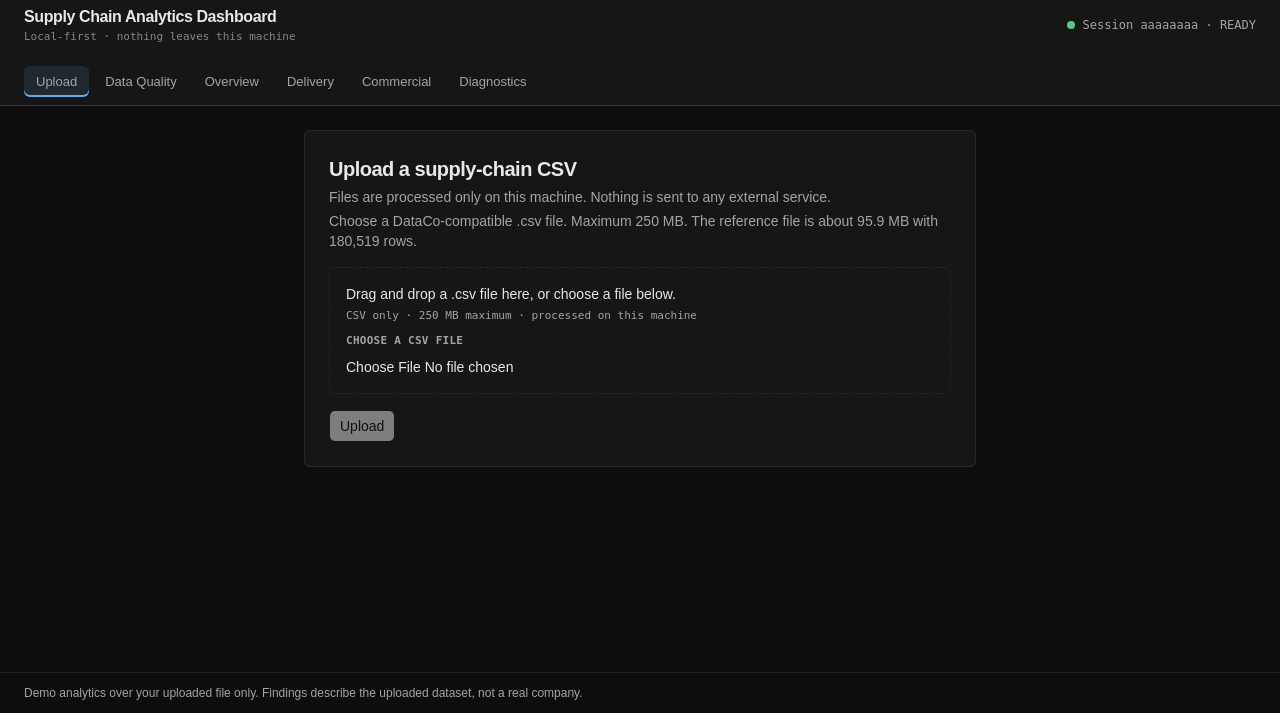
Scenario: Phase-15B diagnostics rankings › discloses the category population distinction for category rankings
The image size is (1280, 713).
Click the button "Diagnostics" at {"x": 493, "y": 81}, box [447, 66, 538, 97]
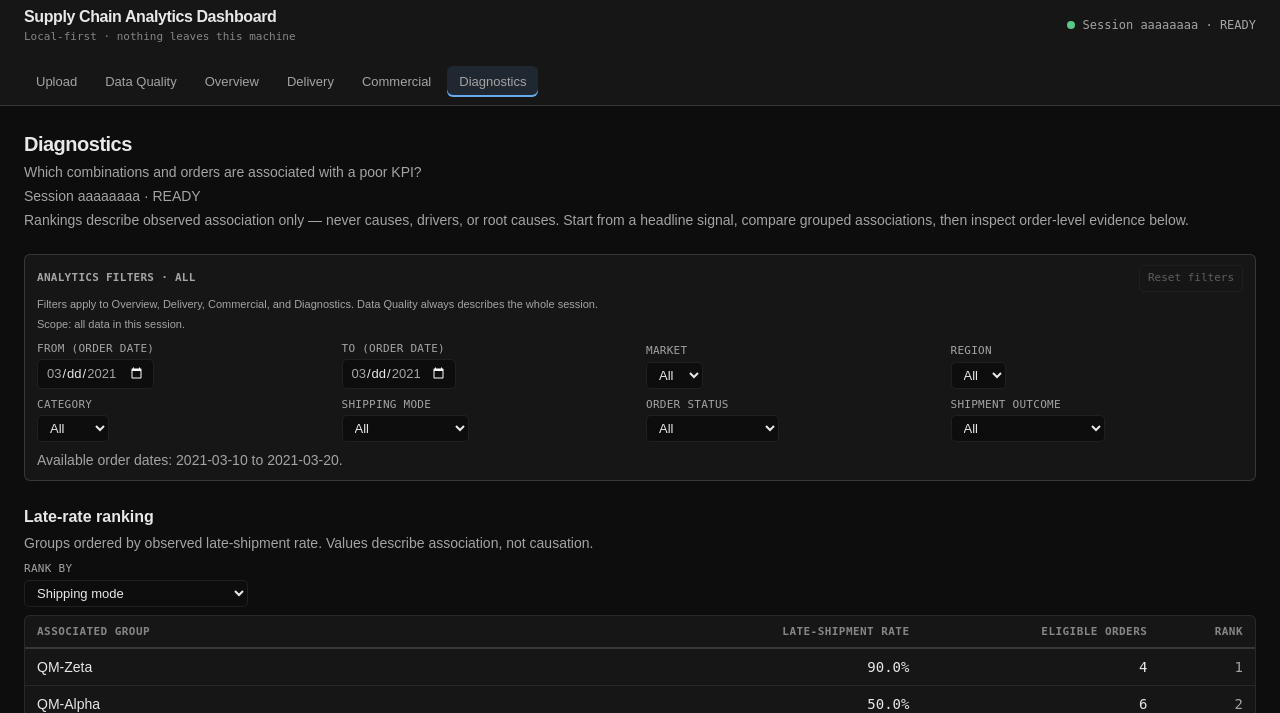
Now the heading "Diagnostics" is shown, box [24, 133, 132, 155]
Select "Product category" in the dropdown labelled "Rank by" at {"x": 136, "y": 593}, box [24, 580, 248, 606]
(page scrolled)
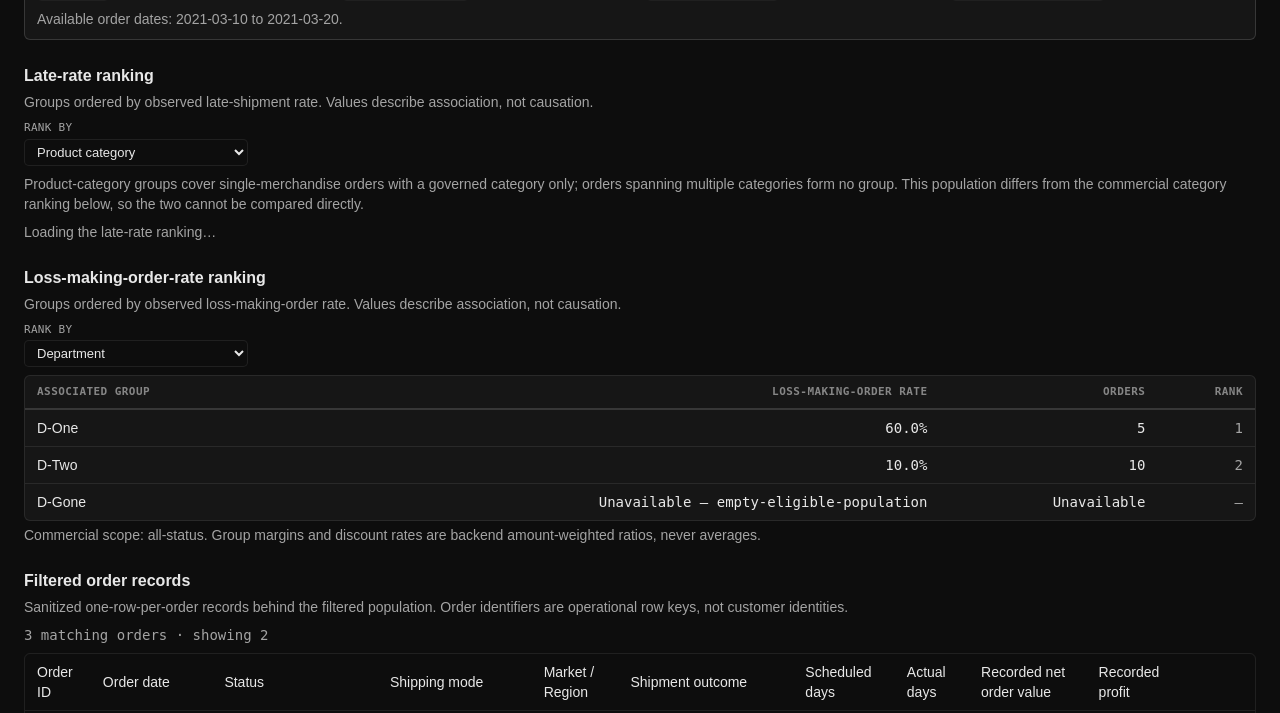
Now the text "cannot be compared directly" is shown, box [24, 176, 1226, 212]
Select "Product category" in the dropdown labelled "Rank by" below "Loss-making-order-rate ranking" at {"x": 136, "y": 354}, box [24, 340, 248, 367]
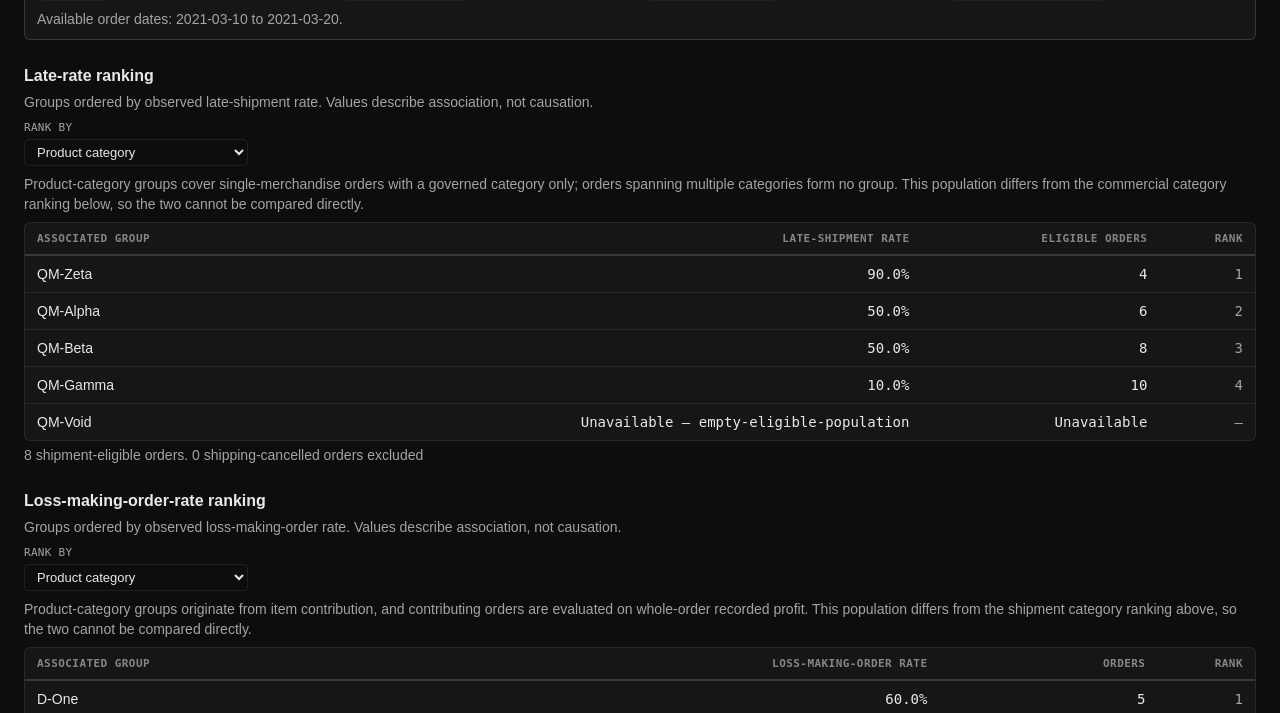
Now the text "whole-order recorded profit" is shown, box [24, 601, 1237, 637]
